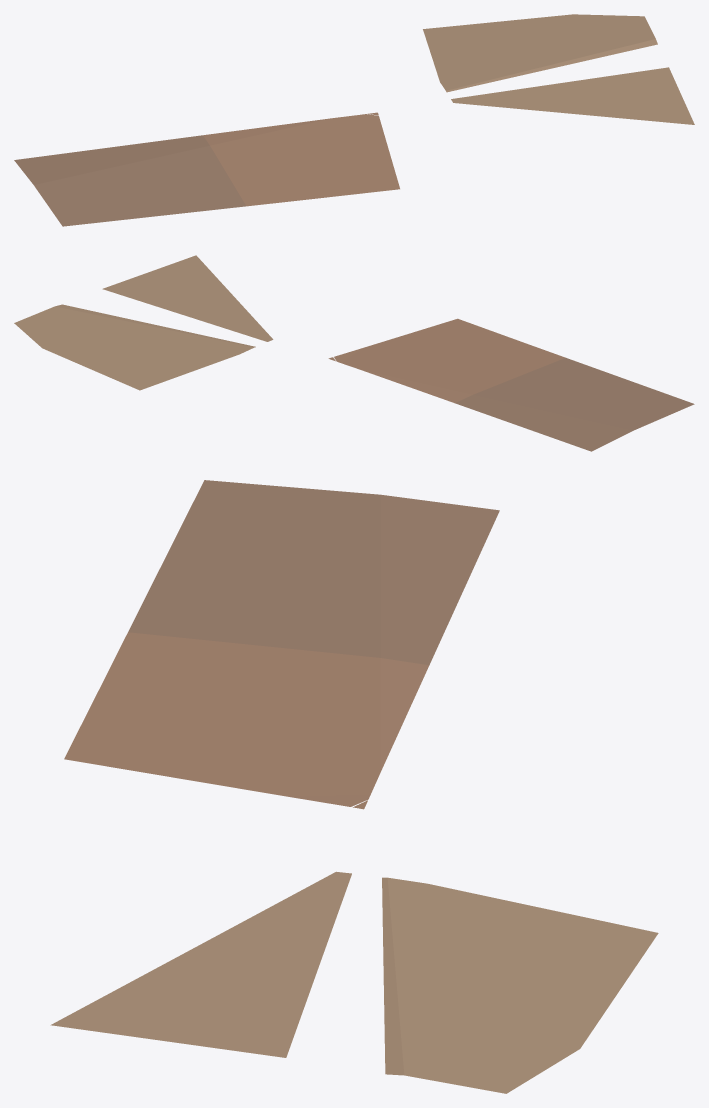
Rendered from farm_22_38_soil.glb.
The picture shows the model from 3 angles, top to bottom: view 1: azimuth 30°, elevation 25°; view 2: azimuth 150°, elevation 25°; view 3: azimuth 270°, elevation 25°; orthographic projection. The views are drawn at different scales.
Visible parts, largest first — view 1: geometry_0; view 2: geometry_0; view 3: geometry_0.
Boxes of the visible parts, bbox=[...] form: geometry_0: bbox=[14, 14, 694, 226]; geometry_0: bbox=[14, 255, 694, 451]; geometry_0: bbox=[50, 480, 658, 1093].
Size of the model in its own units: 82.08 by 1.69 by 35.72.
